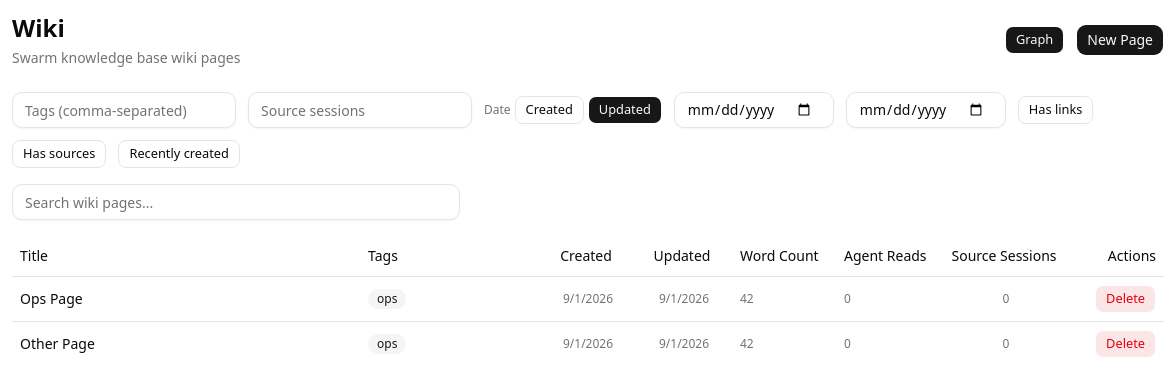
Test: WikiPage list view › restores the full list when the search box is cleared (bugfix)
The width and height of the screenshot is (1176, 374).
Expected: the text "Other Page" is shown, left=20, top=334, right=95, bottom=352
Type "ops" into the field with placeholder "Search wiki pages...".
click(236, 202); type("ops")  # box left=12, top=184, right=460, bottom=220
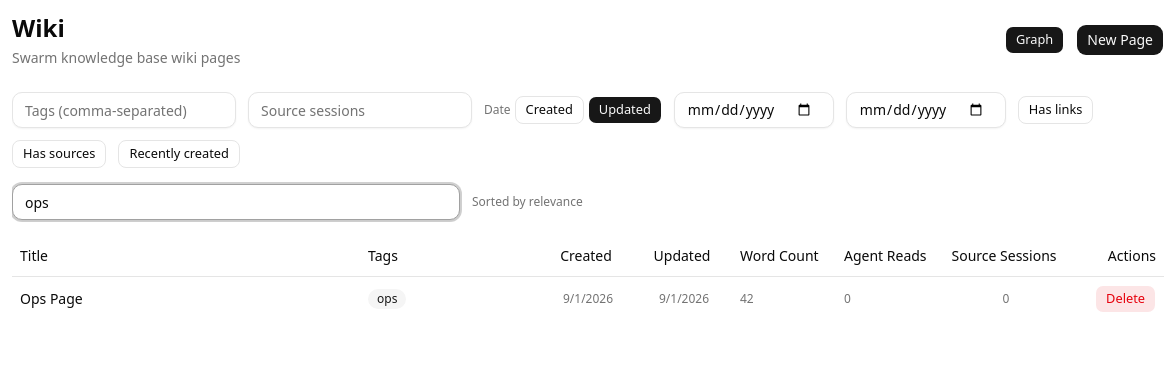
Expected: the text "Other Page" is gone
Clearing must restore the full list, not leave the stale search results.
Clear the field with placeholder "Search wiki pages..." at (236, 202), box left=12, top=184, right=460, bottom=220
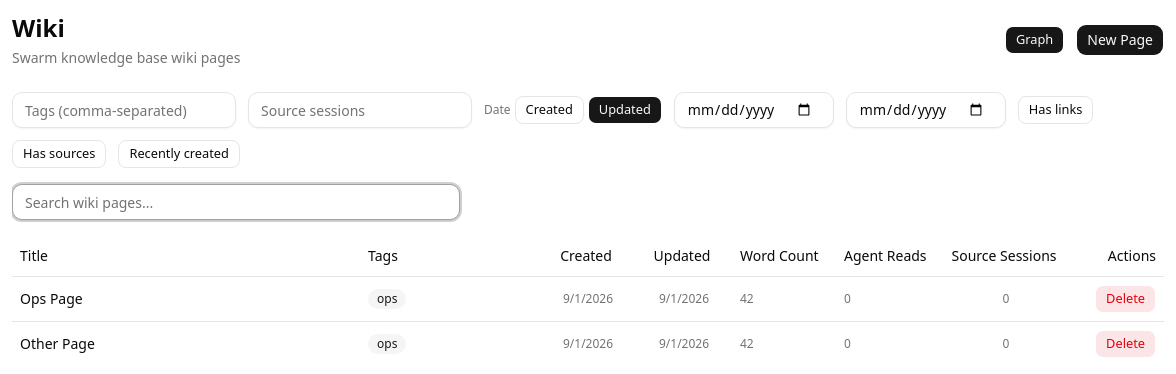
Expected: the text "Other Page" is shown, left=20, top=334, right=95, bottom=352
